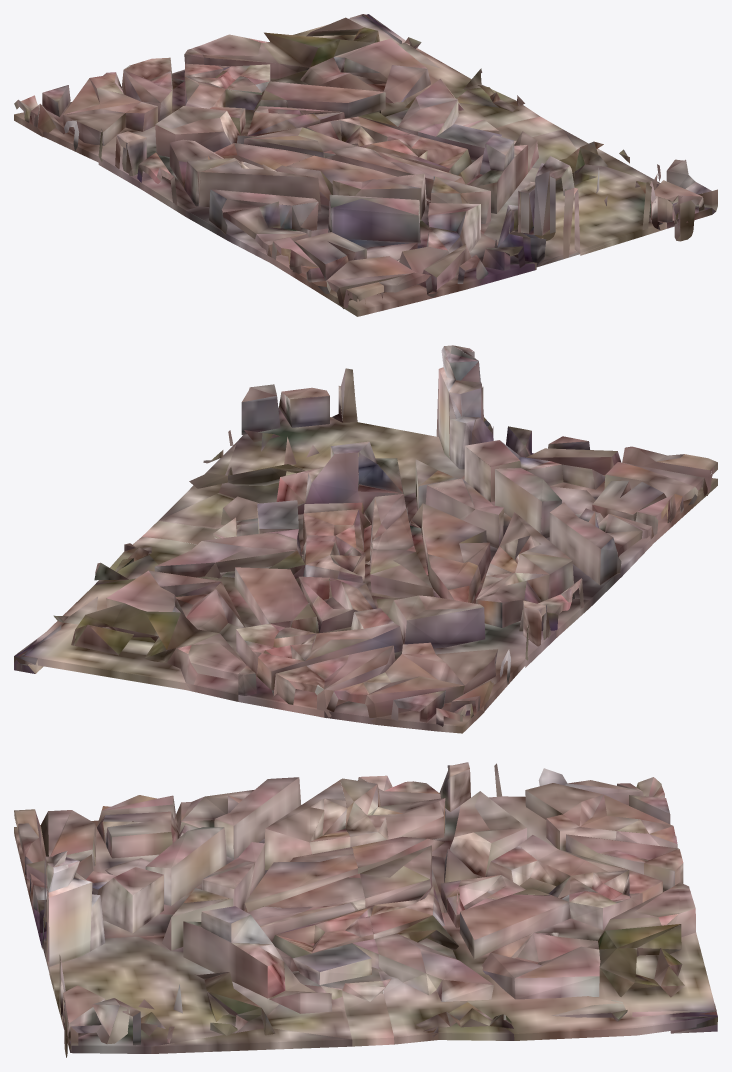
3 renders of one model, top to bottom at view 1: azimuth 30°, elevation 25°; view 2: azimuth 150°, elevation 25°; view 3: azimuth 270°, elevation 25°, orthographic. The views are drawn at different scales.
Parts seen in each view (by area): view 1: Mesh_0; view 2: Mesh_0; view 3: Mesh_0.
Part boxes in pixels (<box>): Mesh_0: <box>14,14,717,316</box>; Mesh_0: <box>14,345,717,733</box>; Mesh_0: <box>14,762,717,1057</box>.
Bounding box in the file's own units: 540 × 136 × 659.
Materials: 2 (2 with a texture image).
